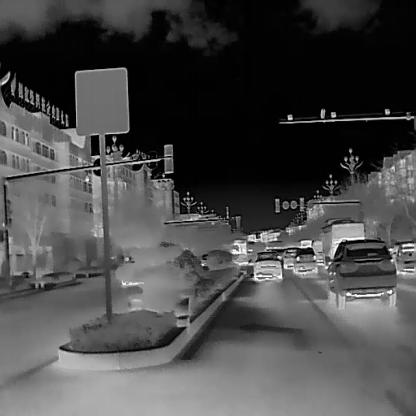bus: (323, 238, 397, 310), (316, 217, 365, 271), (297, 238, 311, 245)
car: (387, 242, 415, 275), (252, 250, 282, 280), (290, 246, 316, 273), (309, 236, 324, 264), (280, 247, 298, 268)
truck: (226, 236, 247, 274)
